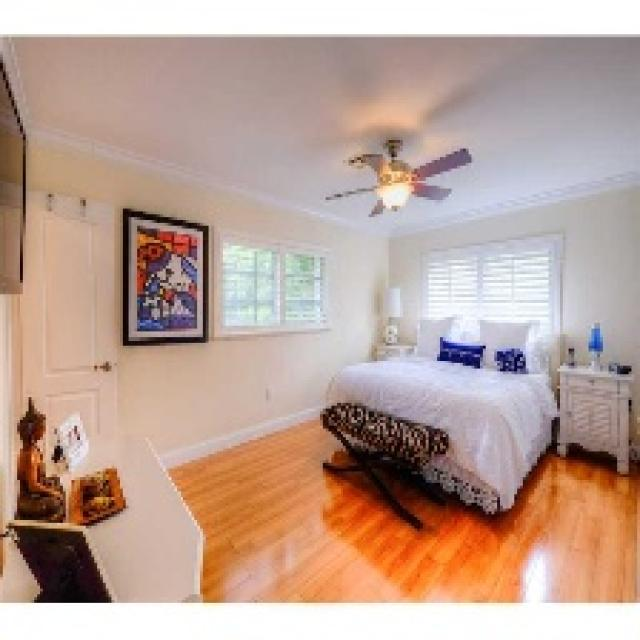Bed: (320, 314, 563, 526)
